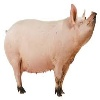heo: (65, 1, 98, 50)
